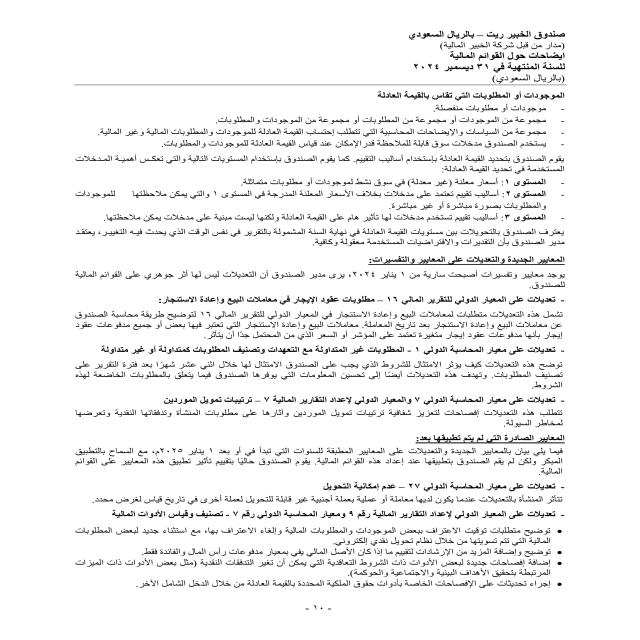notes: (444, 50, 569, 61)
text: (56, 91, 570, 594)
